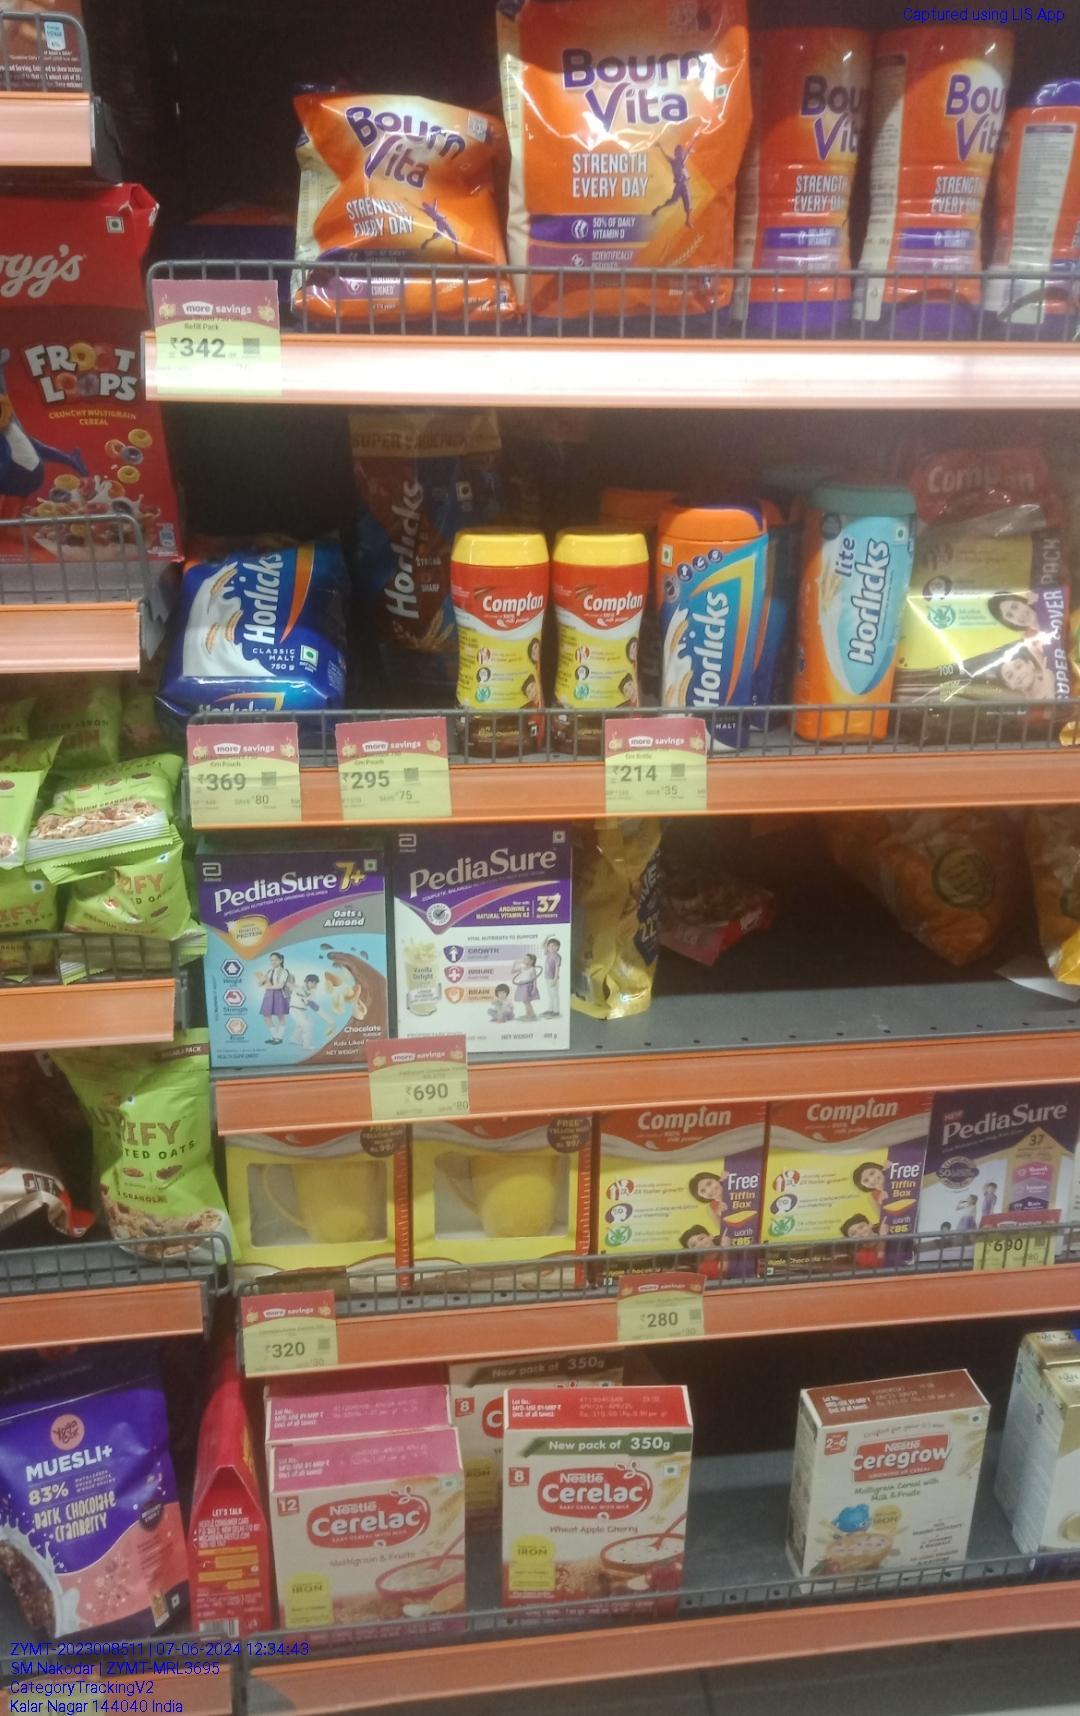HORLICKS_LITE_REGULAR_MALT_500_GM_JAR: (809, 485, 908, 743)
HORLICK_CLASSIC_MALT_500_G_JAR: (664, 505, 756, 730)
PEDIASURE_7_PLUS_CHOCOLATE_400_G_PACK: (198, 839, 383, 1065)
